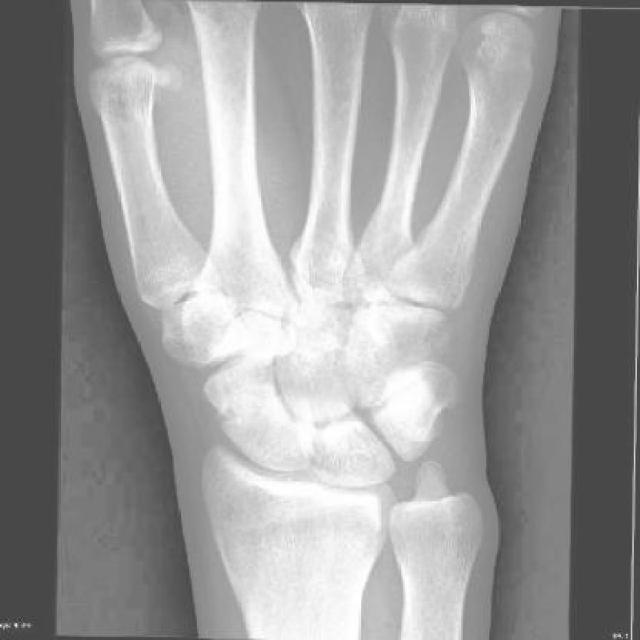Fracture: (211, 376, 287, 427)
